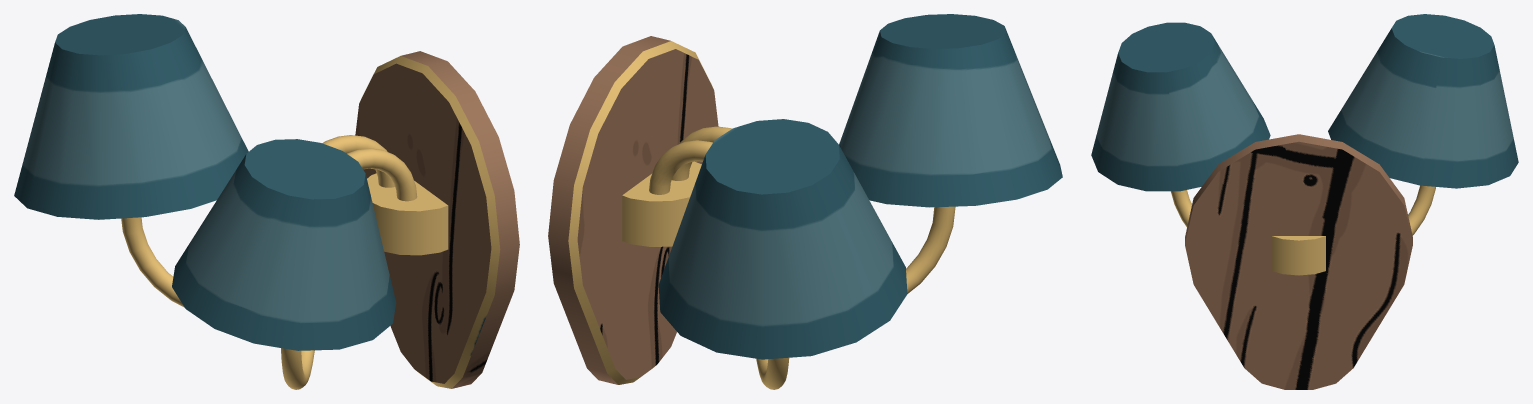
Rendered from LampaSciana.fbx.
3 views of the same model, side by side, from view 1: azimuth 30°, elevation 25°; view 2: azimuth 150°, elevation 25°; view 3: azimuth 270°, elevation 25° (orthographic). The views are drawn at different scales.
Parts seen in each view (by area): view 1: Lamp; view 2: Lamp; view 3: Lamp.
Part boxes in pixels (<box>): Lamp: <box>14,14,519,389</box>; Lamp: <box>548,14,1062,389</box>; Lamp: <box>1091,14,1518,389</box>.
Size of the model in its own units: 1.05 by 0.974 by 1.4.
Materials: 1 (1 with a texture image).
